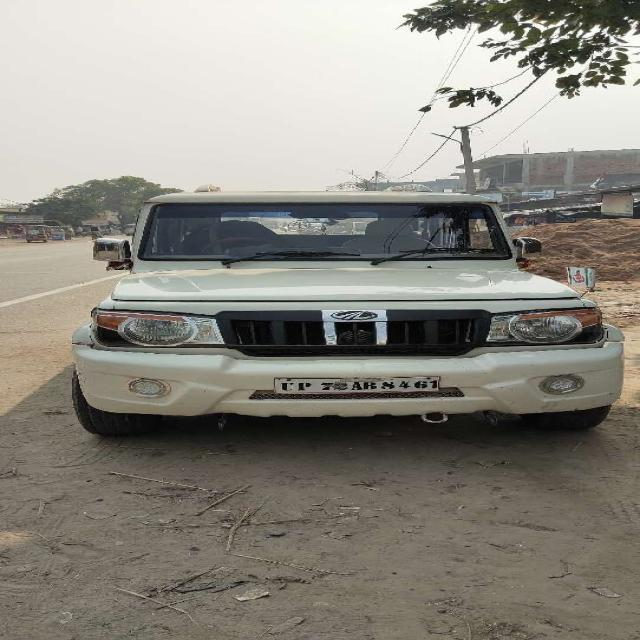light_vehicle: (66, 190, 609, 420)
